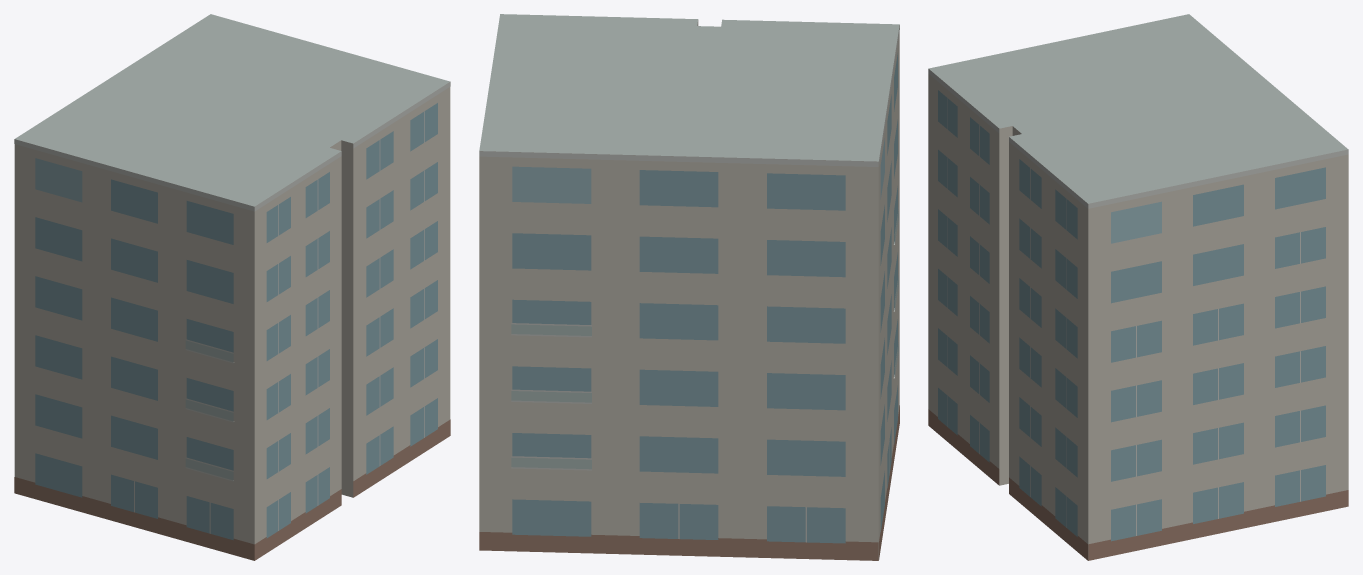
The model's file is survey-upis-32732575.glb.
3 renders of one model, left to right at view 1: azimuth 30°, elevation 25°; view 2: azimuth 150°, elevation 25°; view 3: azimuth 270°, elevation 25°, orthographic. The views are drawn at different scales.
Visible parts, largest first — view 1: survey-upis-32732575.tmp; view 2: survey-upis-32732575.tmp; view 3: survey-upis-32732575.tmp.
Boxes of the visible parts, left/top/right/bottom form: survey-upis-32732575.tmp: left=14, top=14, right=450, bottom=560; survey-upis-32732575.tmp: left=479, top=14, right=899, bottom=560; survey-upis-32732575.tmp: left=928, top=14, right=1348, bottom=560.
Size of the model in its own units: 19.85 by 17.4 by 18.56.
